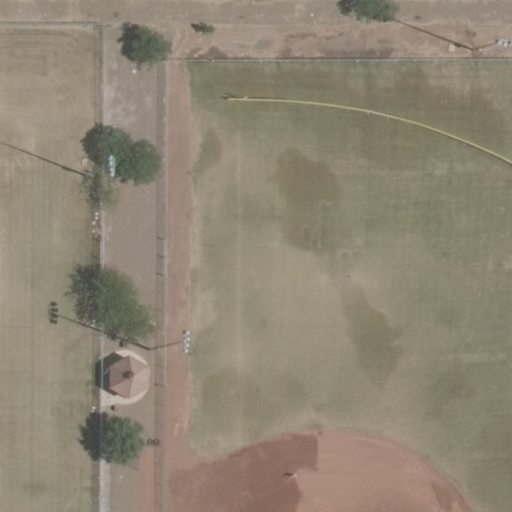DT: (153, 328, 193, 352), (106, 157, 117, 178)
